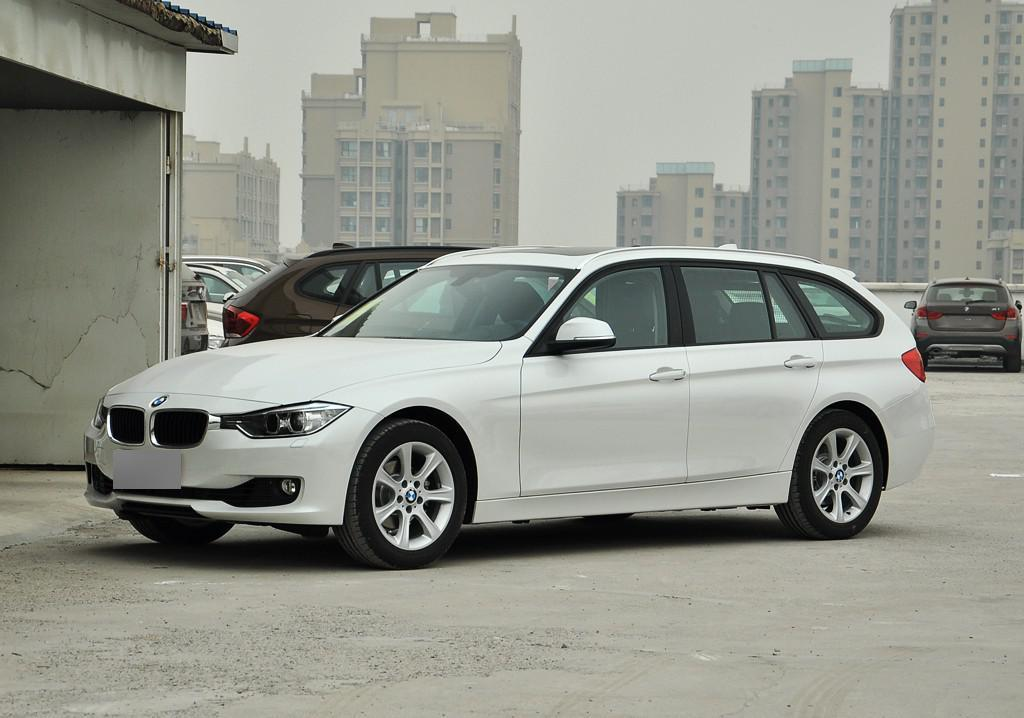Wagon: (82, 240, 936, 569)
